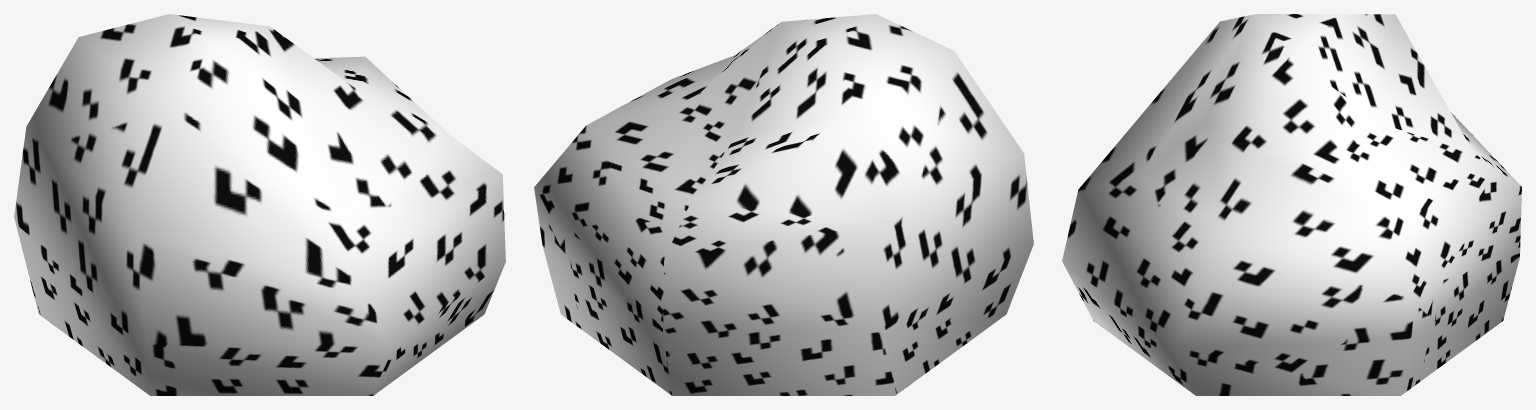
Rendered from Bush2.fbx.
The picture shows the model from 3 angles, left to right: view 1: azimuth 30°, elevation 25°; view 2: azimuth 150°, elevation 25°; view 3: azimuth 270°, elevation 25°; orthographic projection. The views are drawn at different scales.
Visible parts, largest first — view 1: Sphere; view 2: Sphere; view 3: Sphere.
Boxes of the visible parts, box(x1,y1,x2,y2) form: Sphere: box(14, 14, 505, 395); Sphere: box(534, 14, 1033, 395); Sphere: box(1062, 14, 1521, 395).
Size of the model in its own units: 178 by 137 by 208.
